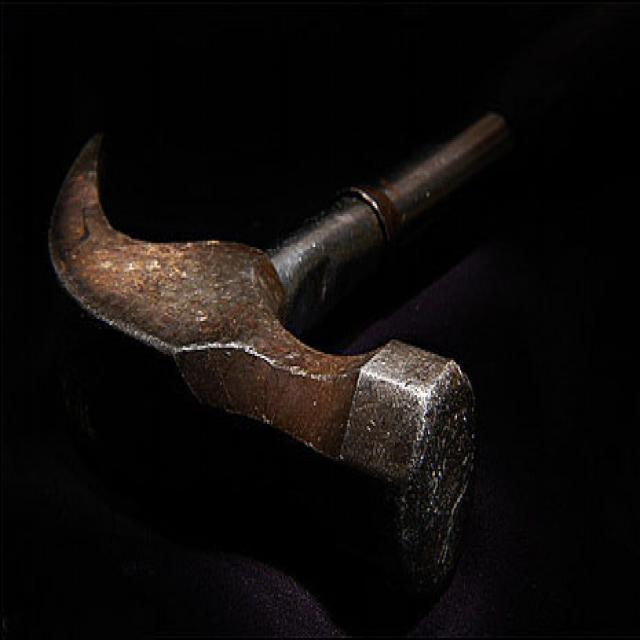hammer: (37, 113, 600, 622)
